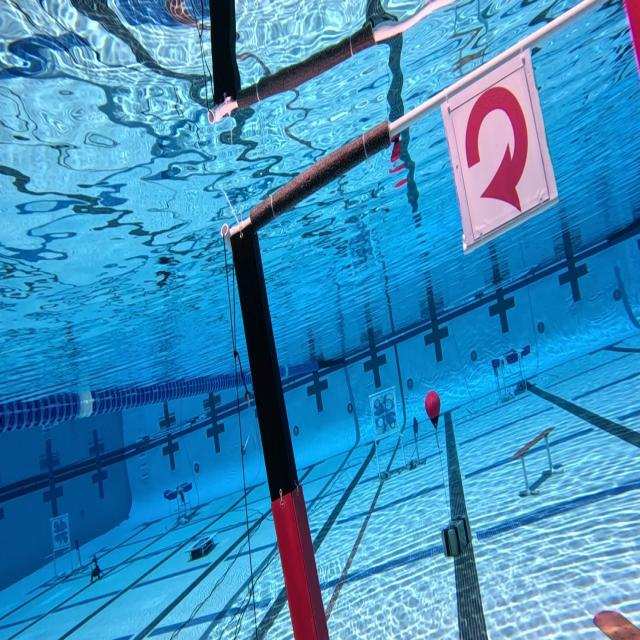red_side: (447, 72, 539, 226)
